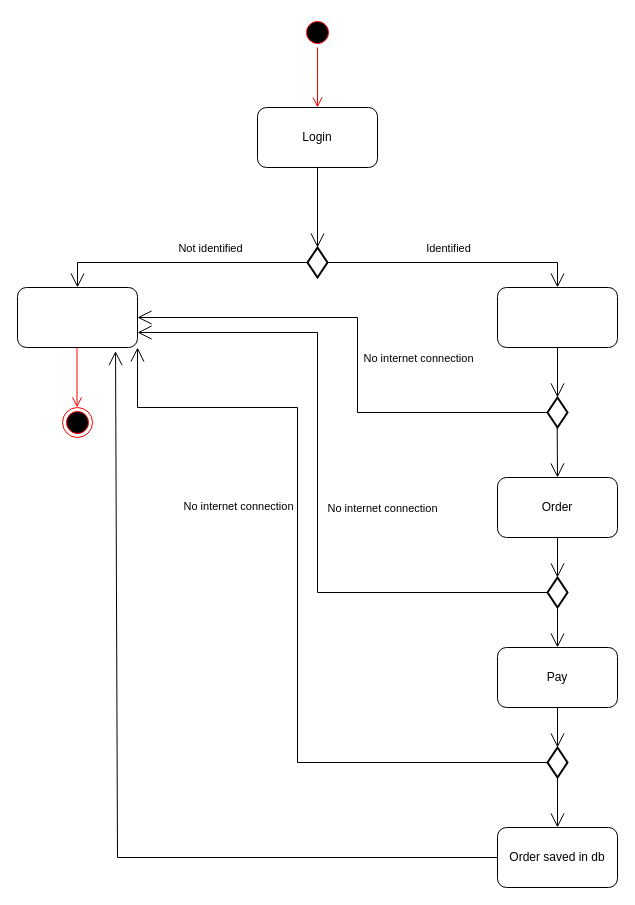
Some shapes in this 635 by 905 pixel diagram are drawn without their labels. Here are the shapes that lost their labels. From the top down, the centre of each, then its label:
At point (77, 317): "Shows corresponding message".
At point (557, 317): "Create custom sunglasses".
